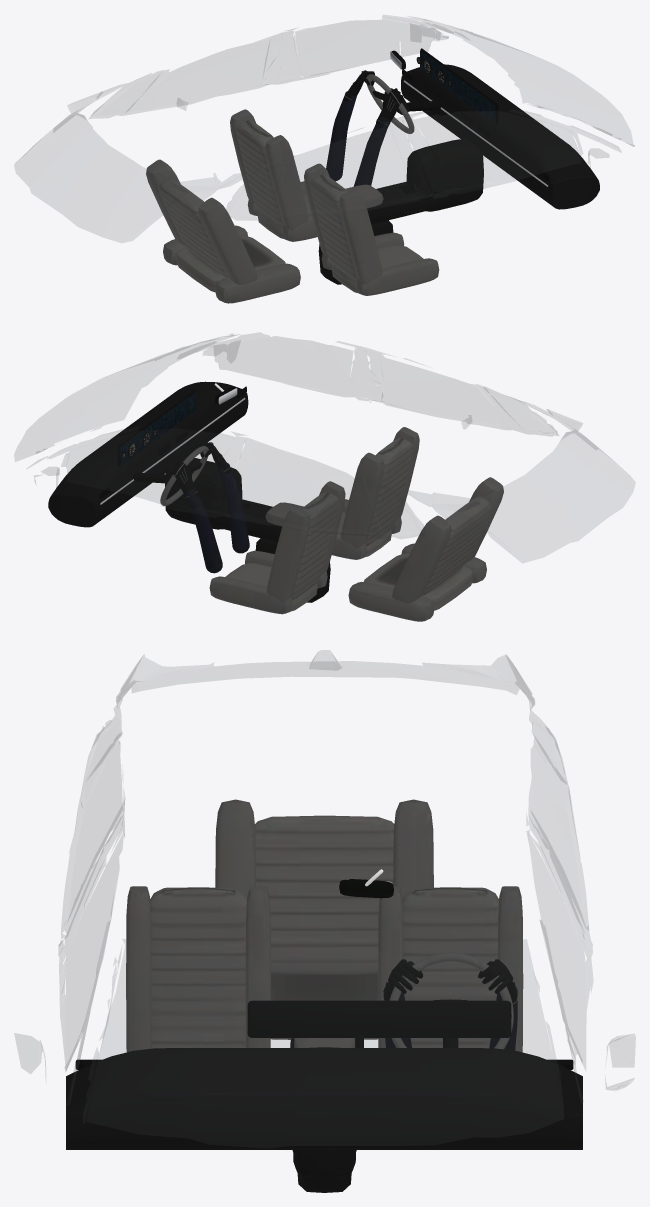
File: rp1_vanta_cockpit_low.glb
3 views of the same model, one above another, from view 1: azimuth 30°, elevation 25°; view 2: azimuth 150°, elevation 25°; view 3: azimuth 270°, elevation 25° (orthographic). The views are drawn at different scales.
Parts seen in each view (by area): view 1: cockpit_shell, cabin_glass, window_R, window_L, hands, steering_wheel; view 2: cockpit_shell, cabin_glass, window_L, window_R, hands, steering_wheel; view 3: cockpit_shell, cabin_glass, window_R, window_L, hands, steering_wheel.
Part boxes in pixels (x1,y1,x2,y2): cockpit_shell: [146, 41, 599, 303]; cabin_glass: [14, 17, 634, 242]; window_R: [402, 105, 608, 199]; window_L: [266, 15, 445, 83]; hands: [326, 70, 403, 186]; steering_wheel: [366, 74, 414, 133]; cockpit_shell: [48, 381, 503, 621]; cabin_glass: [14, 335, 635, 562]; window_L: [42, 426, 246, 517]; window_R: [197, 333, 383, 402]; hands: [170, 442, 249, 573]; steering_wheel: [160, 446, 208, 505]; cockpit_shell: [66, 799, 582, 1192]; cabin_glass: [14, 650, 635, 1147]; window_R: [40, 815, 124, 1070]; window_L: [527, 817, 631, 1089]; hands: [383, 958, 517, 1050]; steering_wheel: [389, 952, 513, 1049].
Bounding box in the file's own units: 3.29 × 1.28 × 1.92.
4 materials, 2 textured.
